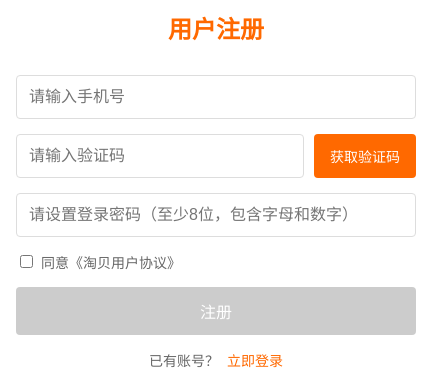
it: RegisterForm › 应该显示注册按钮的加载状态
In the field with placeholder "请输入手机号": (216,97) [16,75,416,119], type "13800138000"
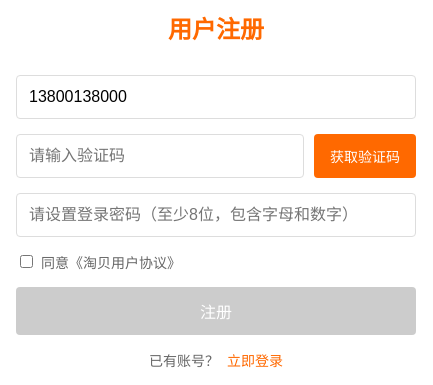
In the field with placeholder "请输入验证码": (160,156) [16,134,304,178], type "123456"
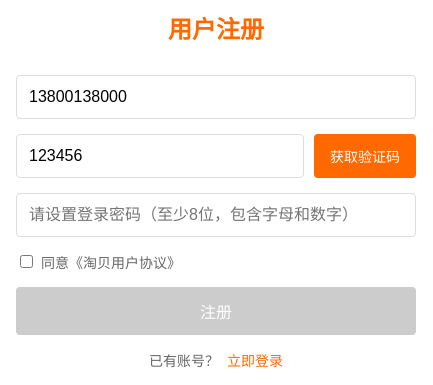
In the password field with placeholder "请设置登录密码（至少8位，包含字母和数字）": (216,215) [16,193,416,237], type "password123"
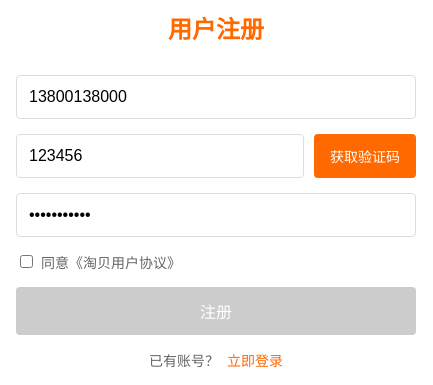
Click the checkbox: (26,262) [20,255,33,268]
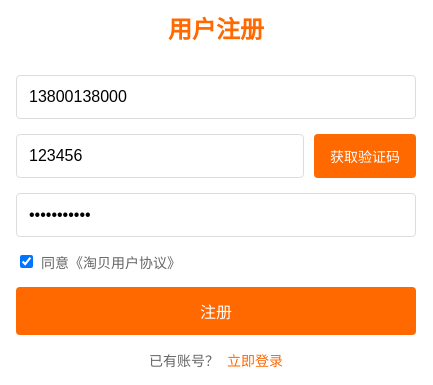
Click the button "注册": (216,311) [16,287,416,335]
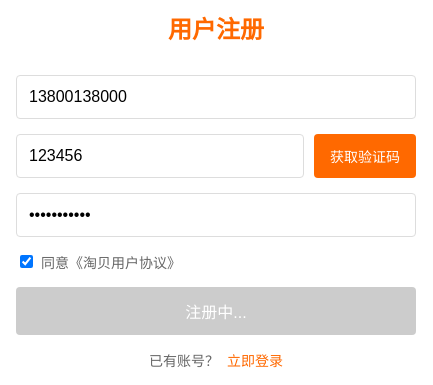
Expected: the button "注册中..." is disabled, [16,287,416,335]
